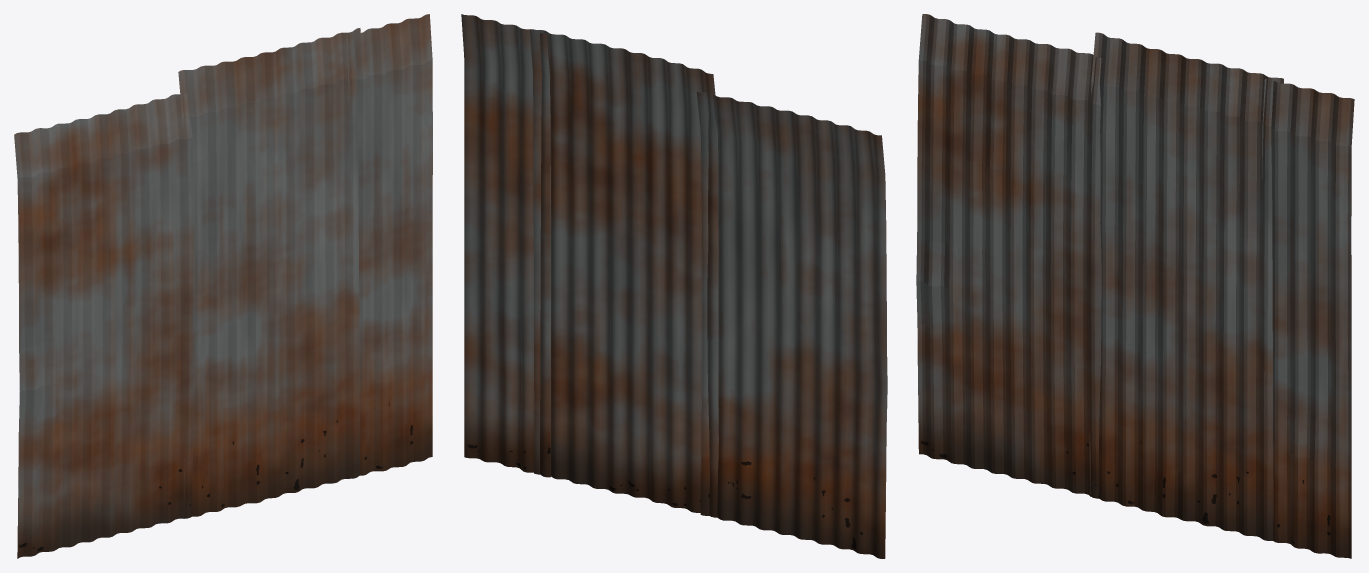
The model's file is S7U_Rev_Corrugated_2m.fbx.
3 views of the same model, side by side, from view 1: azimuth 30°, elevation 25°; view 2: azimuth 150°, elevation 25°; view 3: azimuth 330°, elevation 25° (orthographic). The views are drawn at different scales.
Parts seen in each view (by area): view 1: S7U_Rev_Corrugated_2m; view 2: S7U_Rev_Corrugated_2m; view 3: S7U_Rev_Corrugated_2m.
Boxes of the visible parts, left/top/right/bottom form: S7U_Rev_Corrugated_2m: left=14, top=14, right=432, bottom=558; S7U_Rev_Corrugated_2m: left=461, top=14, right=887, bottom=558; S7U_Rev_Corrugated_2m: left=916, top=14, right=1354, bottom=558.
Size of the model in its own units: 2.06 by 2.1 by 0.0811.
